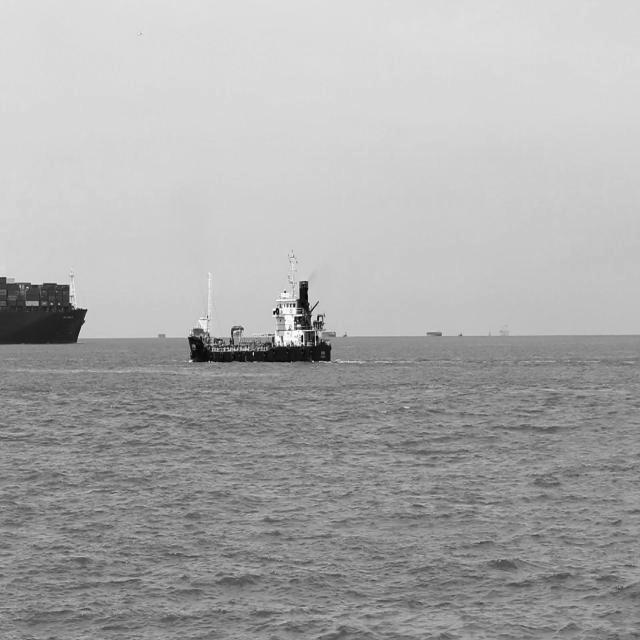ship: (186, 244, 337, 366), (0, 259, 89, 350), (424, 323, 442, 341), (500, 319, 515, 339), (156, 326, 170, 344)
